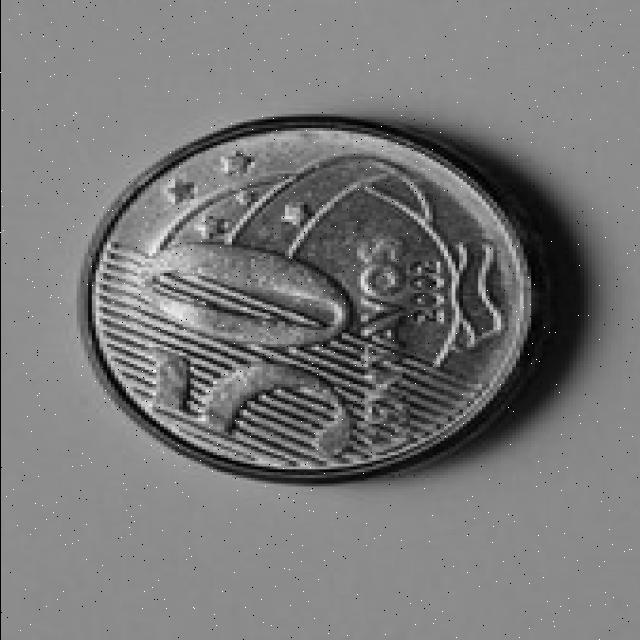50 cent: (70, 112, 546, 482)
